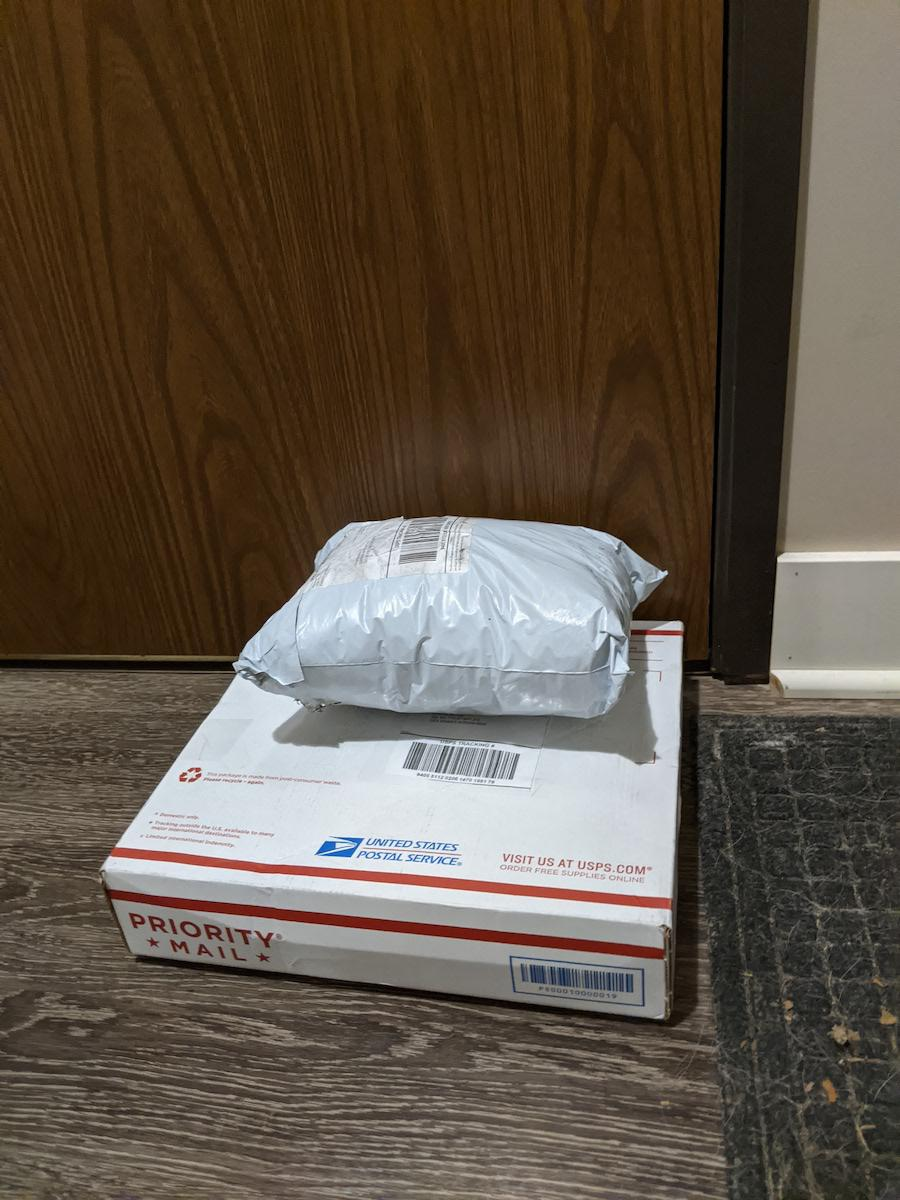package: (95, 611, 705, 1046), (225, 504, 675, 732)
